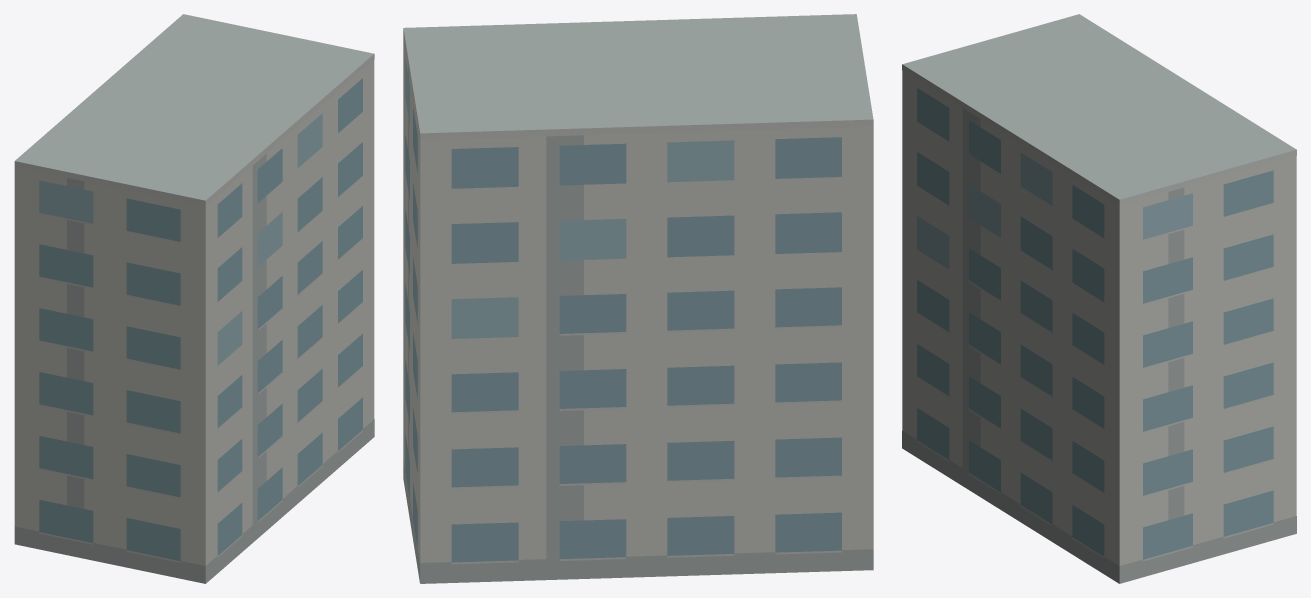
File: survey-upis-32956492.glb
3 views of the same model, side by side, from view 1: azimuth 30°, elevation 25°; view 2: azimuth 150°, elevation 25°; view 3: azimuth 270°, elevation 25° (orthographic). The views are drawn at different scales.
Visible parts, largest first — view 1: survey-upis-32956492.tmp; view 2: survey-upis-32956492.tmp; view 3: survey-upis-32956492.tmp.
Part boxes in pixels (x1,y1,x2,y2): survey-upis-32956492.tmp: (14, 14, 374, 583); survey-upis-32956492.tmp: (403, 14, 873, 583); survey-upis-32956492.tmp: (902, 14, 1296, 583).
Bounding box in the file's own units: 16.4 × 15.8 × 14.72.
